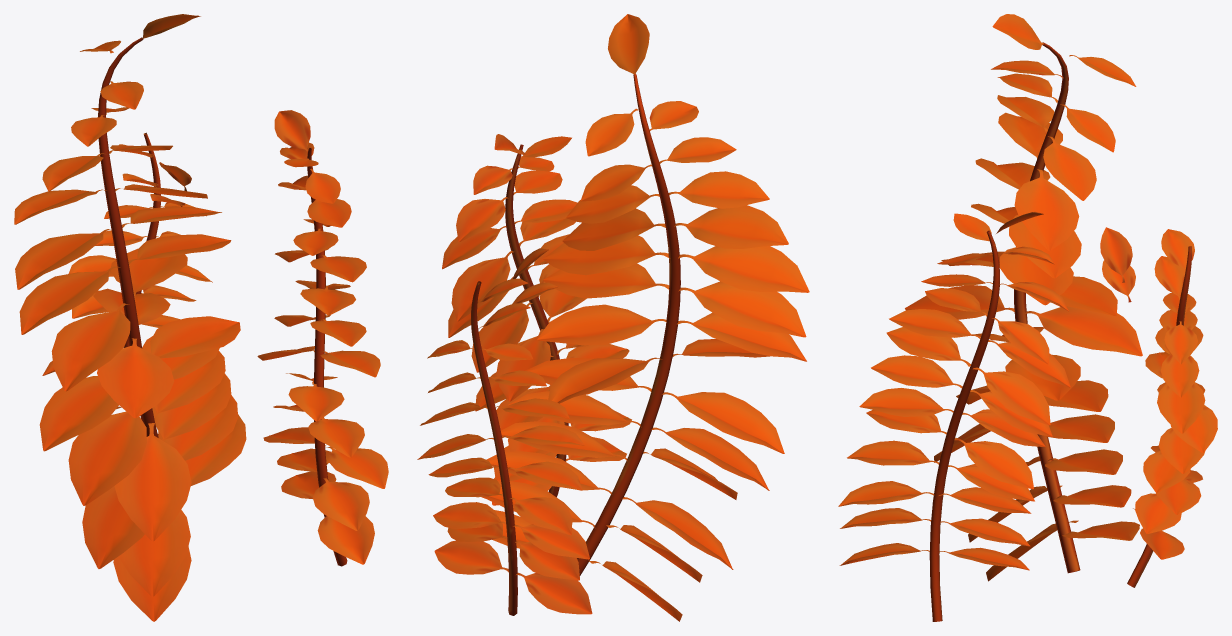
The model's file is Plants_10.fbx.
3 renders of one model, left to right at view 1: azimuth 30°, elevation 25°; view 2: azimuth 150°, elevation 25°; view 3: azimuth 270°, elevation 25°, orthographic. The views are drawn at different scales.
Visible parts, largest first — view 1: Plane.002; view 2: Plane.002; view 3: Plane.002.
Boxes of the visible parts, bbox=[...] form: Plane.002: bbox=[14, 14, 388, 621]; Plane.002: bbox=[417, 14, 809, 621]; Plane.002: bbox=[838, 14, 1217, 621].
Bounding box in the file's own units: 3.05 × 5.07 × 3.
1 material, 1 textured.
